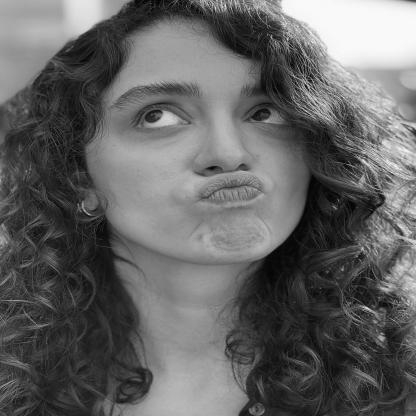Eye: (132, 102, 192, 132), (243, 104, 295, 130)
Mouth: (194, 171, 266, 203)
Nose: (195, 115, 254, 175)
